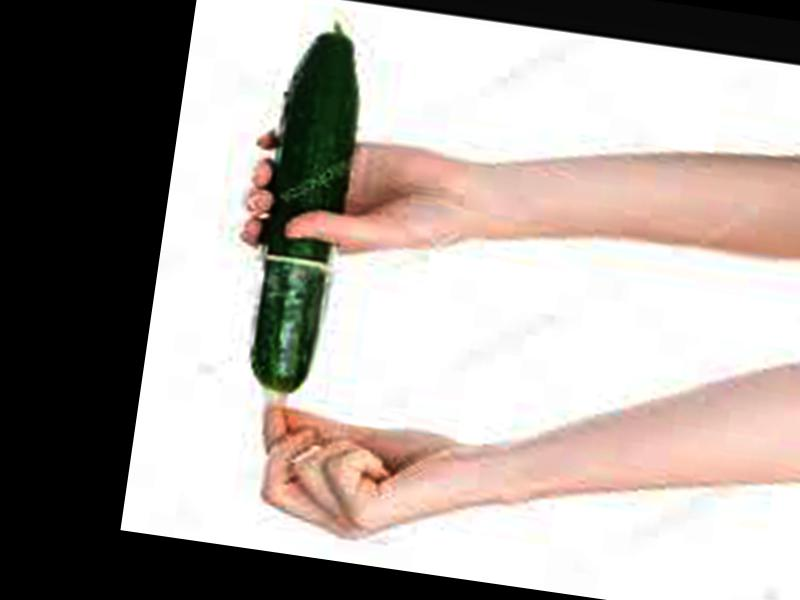Cucumber: (244, 18, 363, 398)
